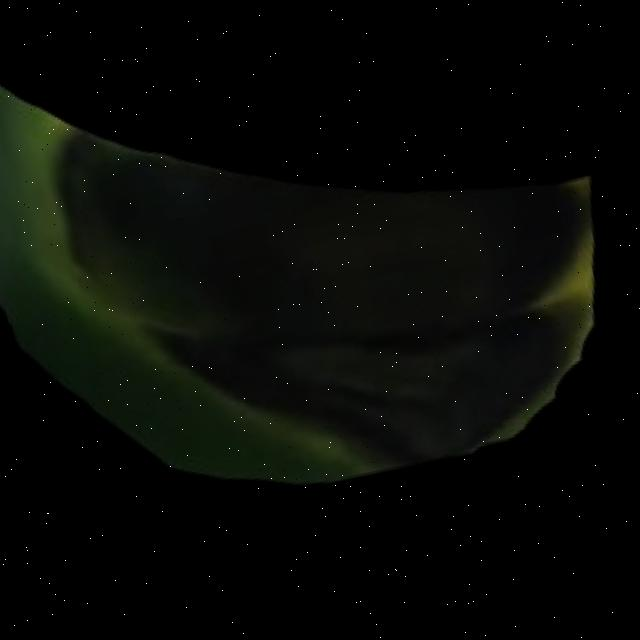mite: (0, 10, 604, 291), (35, 102, 249, 366), (68, 41, 138, 66)
sunburn: (18, 19, 634, 528)
